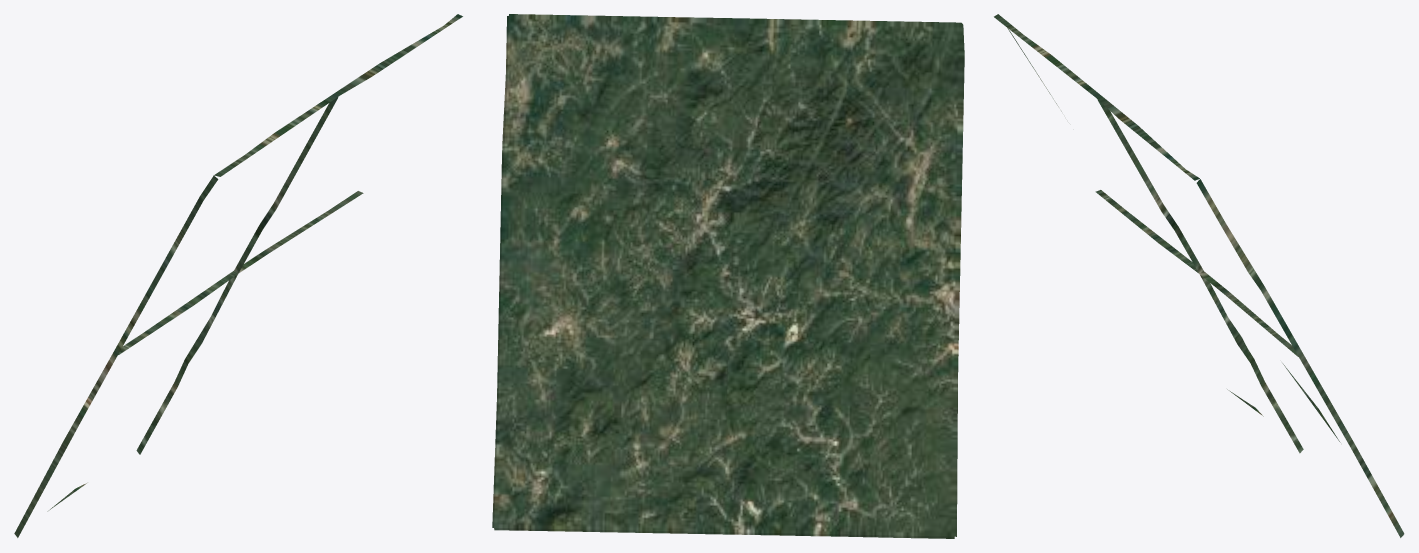
3 renders of one model, left to right at view 1: azimuth 30°, elevation 25°; view 2: azimuth 150°, elevation 25°; view 3: azimuth 270°, elevation 25°, orthographic. The views are drawn at different scales.
Bounding box in the file's own units: 158403 × 140744 × 130067.
Materials: 1 (1 with a texture image).
